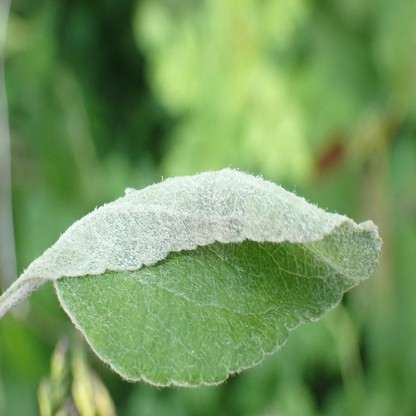powder: (17, 168, 383, 388)
